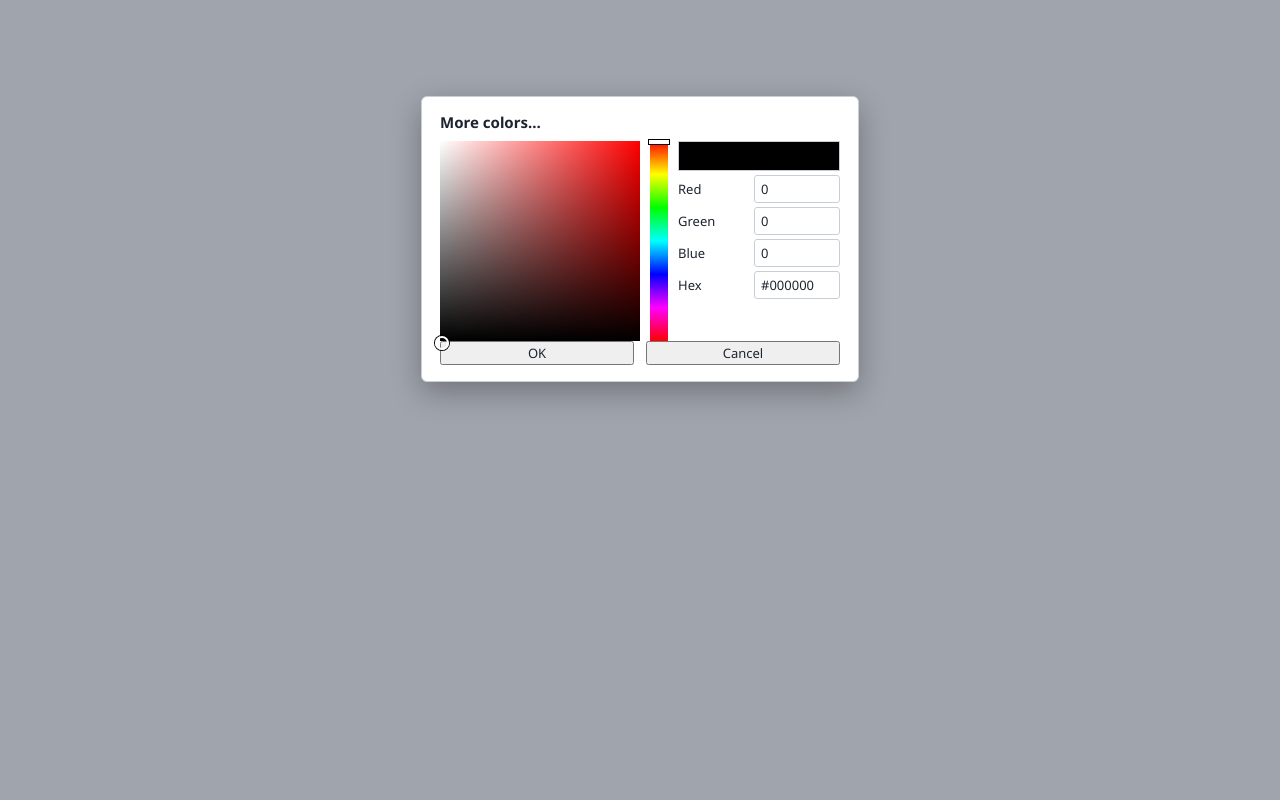
Test case: the RGB picker › takes a colour from the area and the hue bar with the mouse
The width and height of the screenshot is (1280, 800).
Later steps or results of the test are not shown.
Press the mouse on the element with test id "color-hue" at (659, 241), box [650,141,668,341]
Press the mouse on the element with test id "color-area" at (540, 241), box [440,141,640,341]
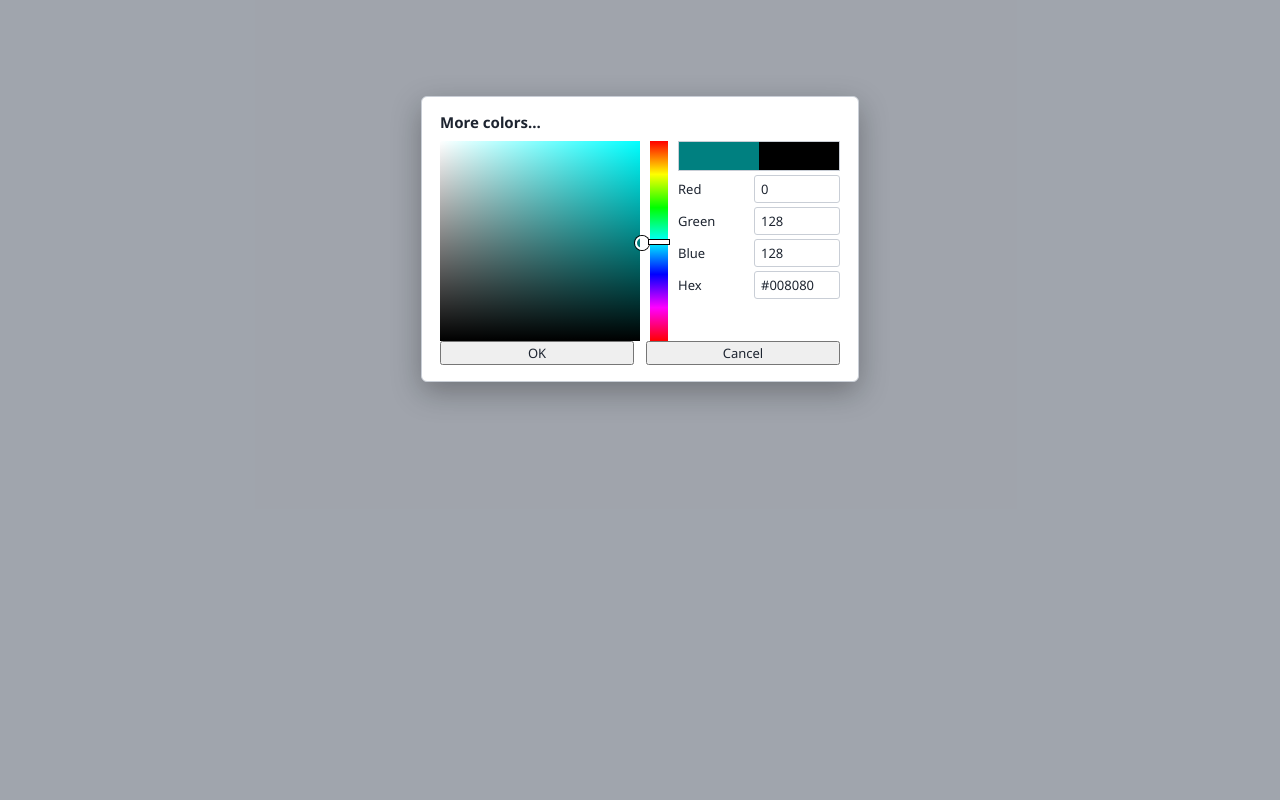
Check: the field labelled "Hex" holds "#008080", box [754,271,840,299]
